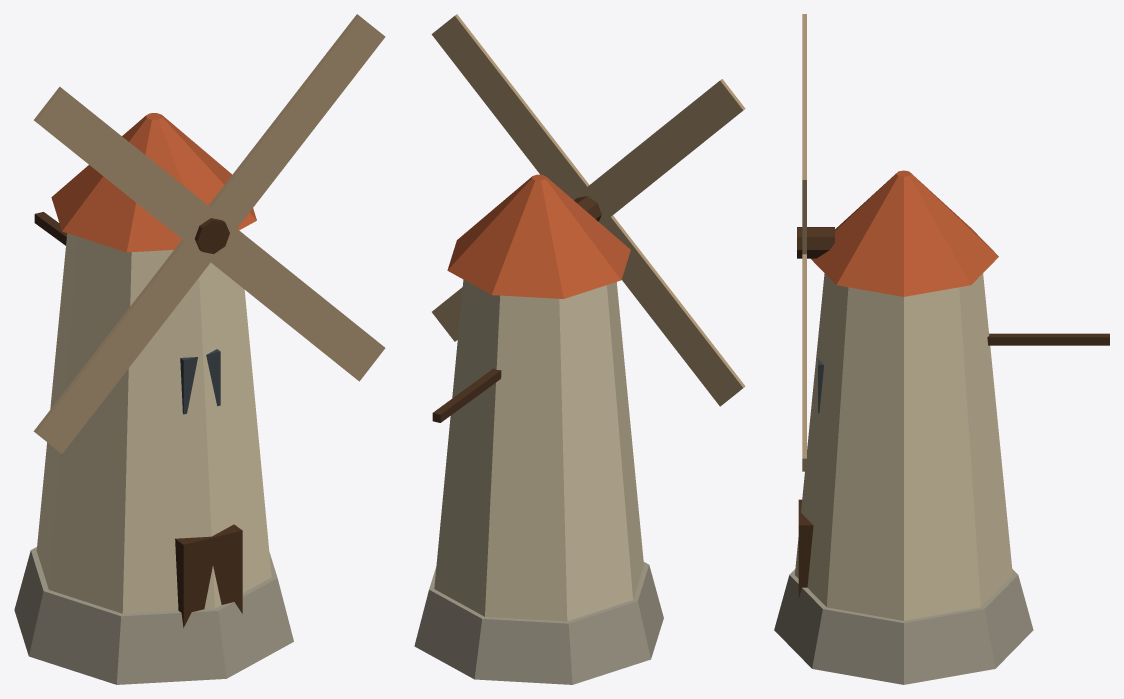
The model's file is era1-windmill-BAS_VY7F.glb.
The picture shows the model from 3 angles, left to right: view 1: azimuth 30°, elevation 25°; view 2: azimuth 150°, elevation 25°; view 3: azimuth 270°, elevation 25°; orthographic projection. The views are drawn at different scales.
Visible parts, largest first — view 1: WM_Tower, WM_Skirt, WM_Cap, WM_Sail0, WM_Sail2, WM_Sail1, WM_Sail3, WM_Door, WM_Window, WM_Hub; view 2: WM_Tower, WM_Skirt, WM_Cap, WM_Sail0, WM_Sail1, WM_Sail2, WM_Tailpole, WM_Sail3; view 3: WM_Tower, WM_Skirt, WM_Cap, WM_Tailpole, WM_Sail3, WM_Door, WM_Hub, WM_Sail1, WM_Sail0.
Part boxes in pixels (x1,y1,x2,y2): WM_Tower: [36, 233, 271, 613]; WM_Skirt: [14, 547, 293, 684]; WM_Cap: [51, 113, 256, 252]; WM_Sail0: [198, 14, 385, 240]; WM_Sail2: [33, 225, 219, 453]; WM_Sail1: [34, 86, 221, 251]; WM_Sail3: [198, 218, 385, 381]; WM_Door: [175, 524, 242, 627]; WM_Window: [180, 349, 220, 414]; WM_Hub: [194, 218, 229, 253]; WM_Tower: [434, 279, 643, 621]; WM_Skirt: [414, 562, 663, 684]; WM_Cap: [447, 174, 630, 298]; WM_Sail0: [431, 14, 598, 202]; WM_Sail1: [576, 79, 745, 223]; WM_Sail2: [601, 215, 745, 406]; WM_Tailpole: [432, 368, 501, 422]; WM_Sail3: [432, 287, 462, 341]; WM_Tower: [795, 273, 1012, 620]; WM_Skirt: [774, 569, 1033, 684]; WM_Cap: [811, 170, 998, 296]; WM_Tailpole: [987, 333, 1109, 345]; WM_Sail3: [802, 254, 806, 471]; WM_Door: [798, 499, 813, 598]; WM_Hub: [797, 227, 834, 258]; WM_Sail1: [802, 14, 806, 143]; WM_Sail0: [802, 144, 806, 254].
Bounding box in the file's own units: 4.74 × 7.97 × 4.4.
